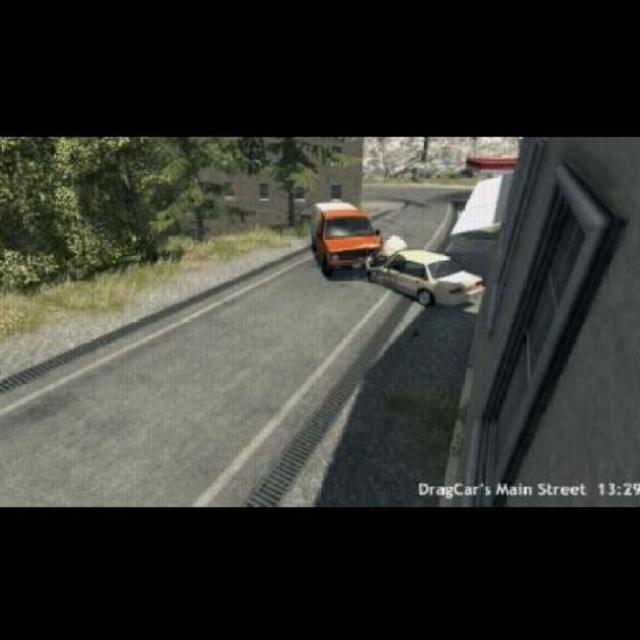accident: (301, 201, 485, 319)
